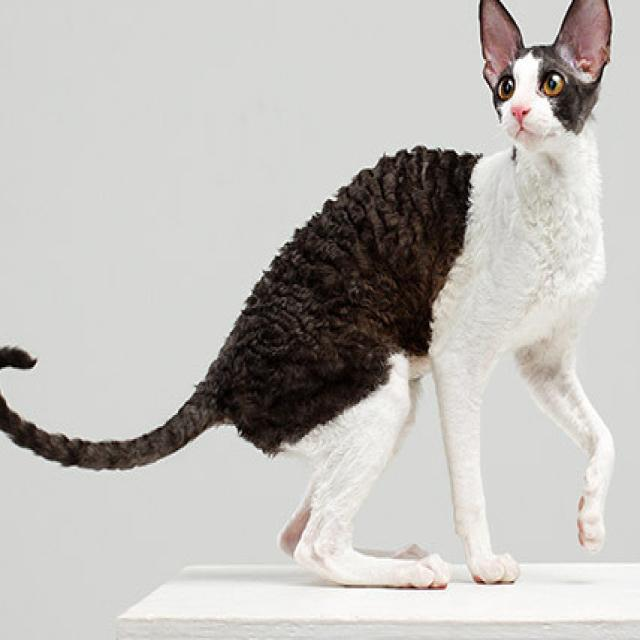Cornish Rex: (0, 0, 621, 616)
